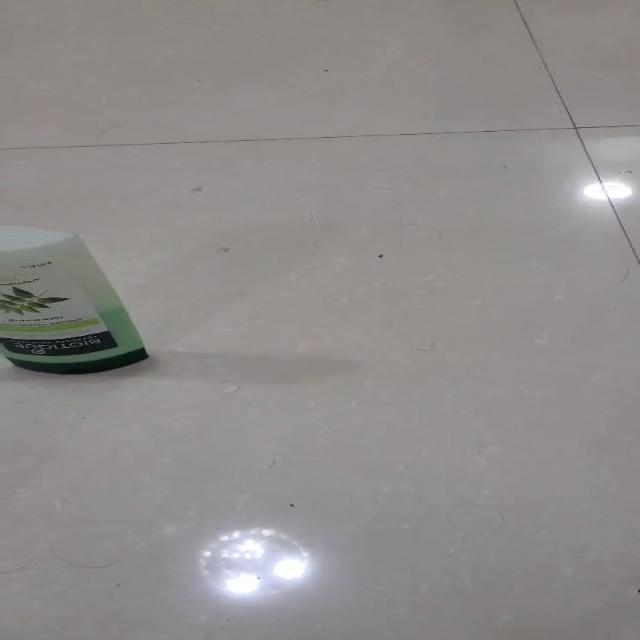plastic: (0, 224, 149, 375)
